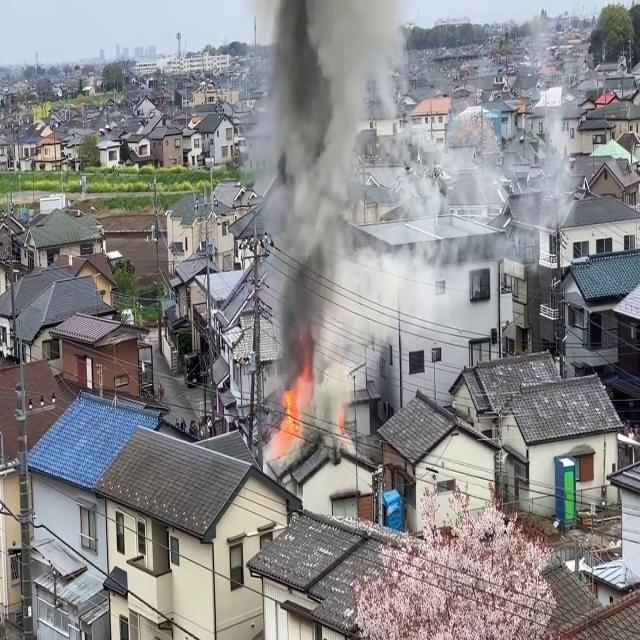Fire: (270, 364, 312, 456)
Smoke: (246, 0, 378, 416)
